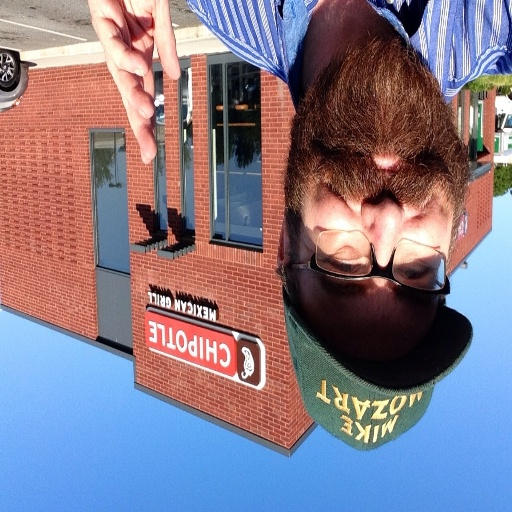hand: (74, 6, 174, 147)
